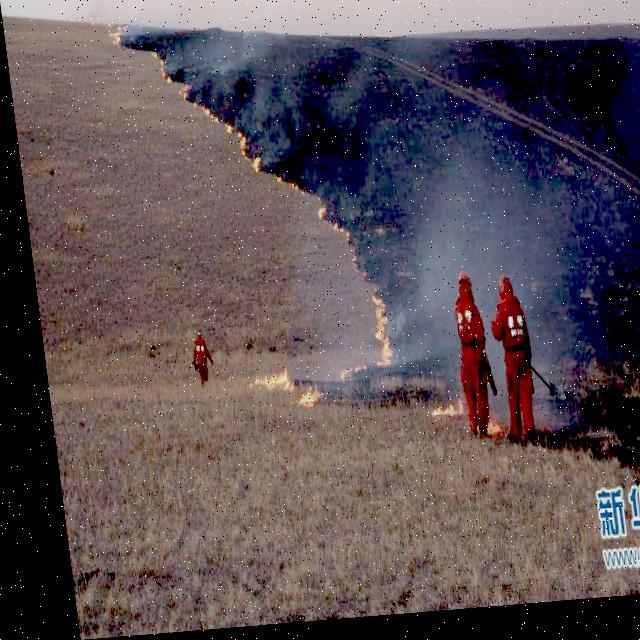Fire: (272, 169, 389, 369), (145, 42, 259, 182), (240, 374, 312, 414), (104, 16, 126, 49)
